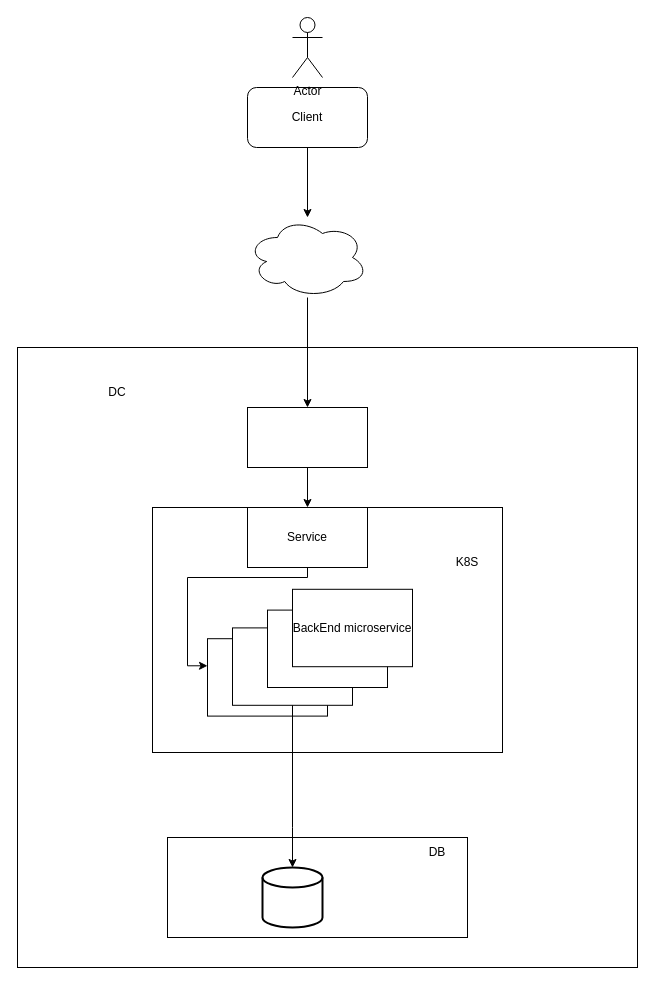
The diagram is 655 pixels wide and 985 high, and some of its shapes have lost their labels. The shapes that lost their labels are listed below. From the top down, each one's box as (x1, y1, x2, y2) in pixels, then its label:
(246, 216, 368, 298): Inet
(246, 406, 368, 468): Load Balancer
